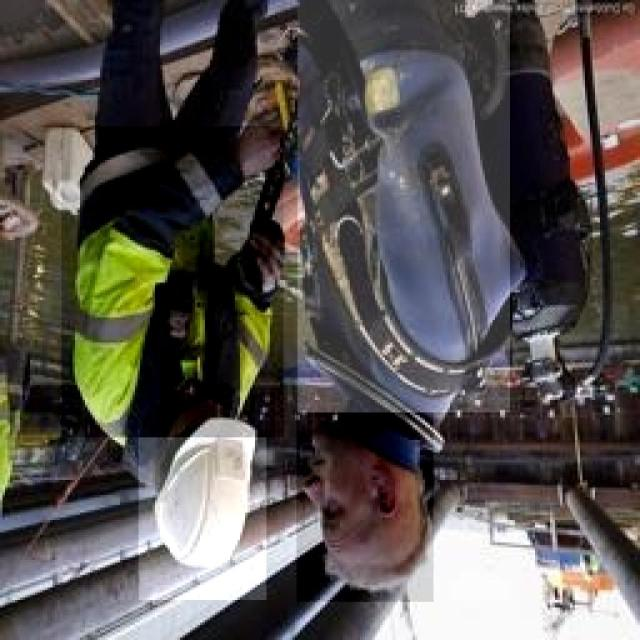Helmet: (297, 0, 510, 412), (62, 126, 284, 438), (138, 388, 266, 600), (296, 412, 434, 602)
